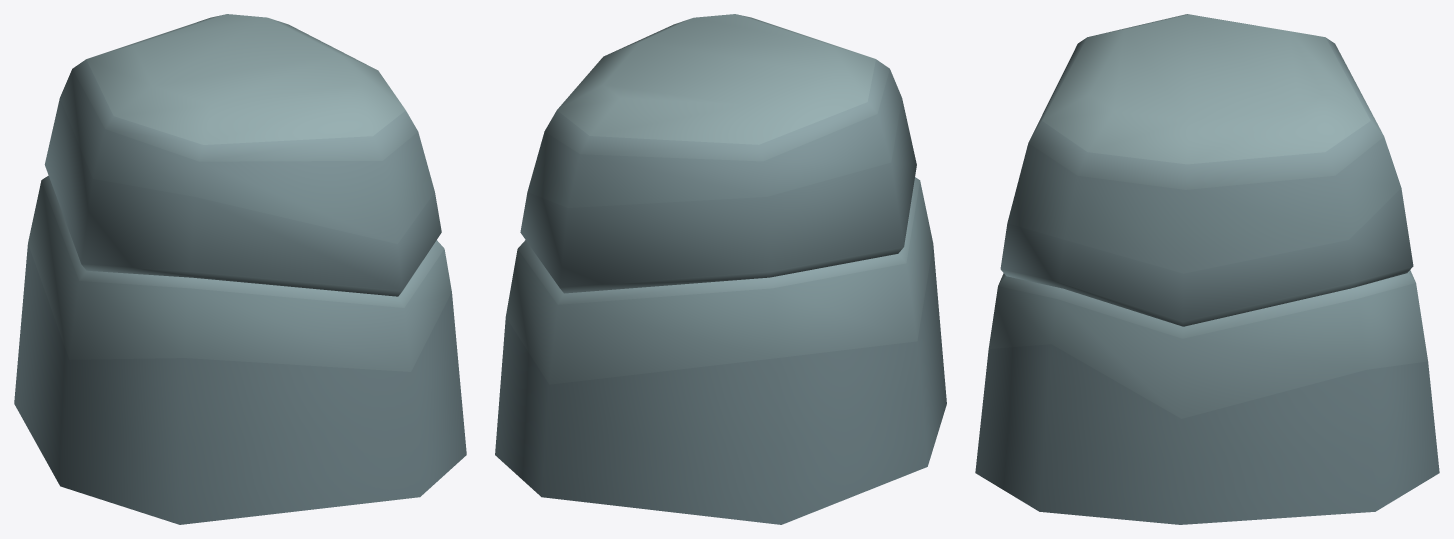
The model's file is platform_kit029.fbx.
3 views of the same model, side by side, from view 1: azimuth 30°, elevation 25°; view 2: azimuth 150°, elevation 25°; view 3: azimuth 270°, elevation 25° (orthographic).
Visible parts, largest first — view 1: platform_kit029; view 2: platform_kit029; view 3: platform_kit029.
Part boxes in pixels (x1,y1,x2,y2): platform_kit029: (14, 14, 466, 524); platform_kit029: (495, 14, 946, 524); platform_kit029: (975, 14, 1439, 524).
Size of the model in its own units: 331 by 325 by 361.
1 material, 1 textured.
